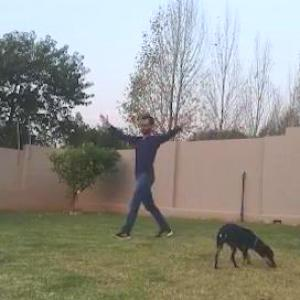takeoff: (81, 108, 198, 237)
